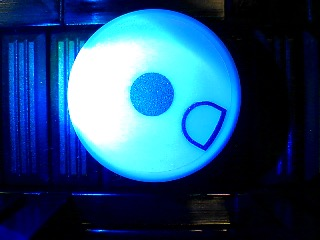BOHOMIPO1: (66, 7, 242, 182)
